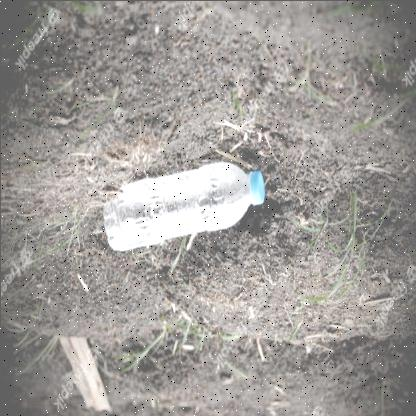Plastic Bottle: (102, 160, 264, 250)
